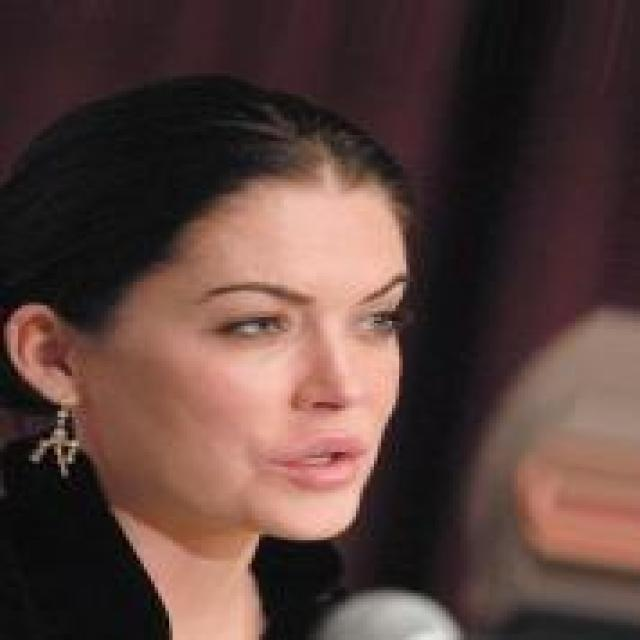bareface: (51, 101, 404, 546)
